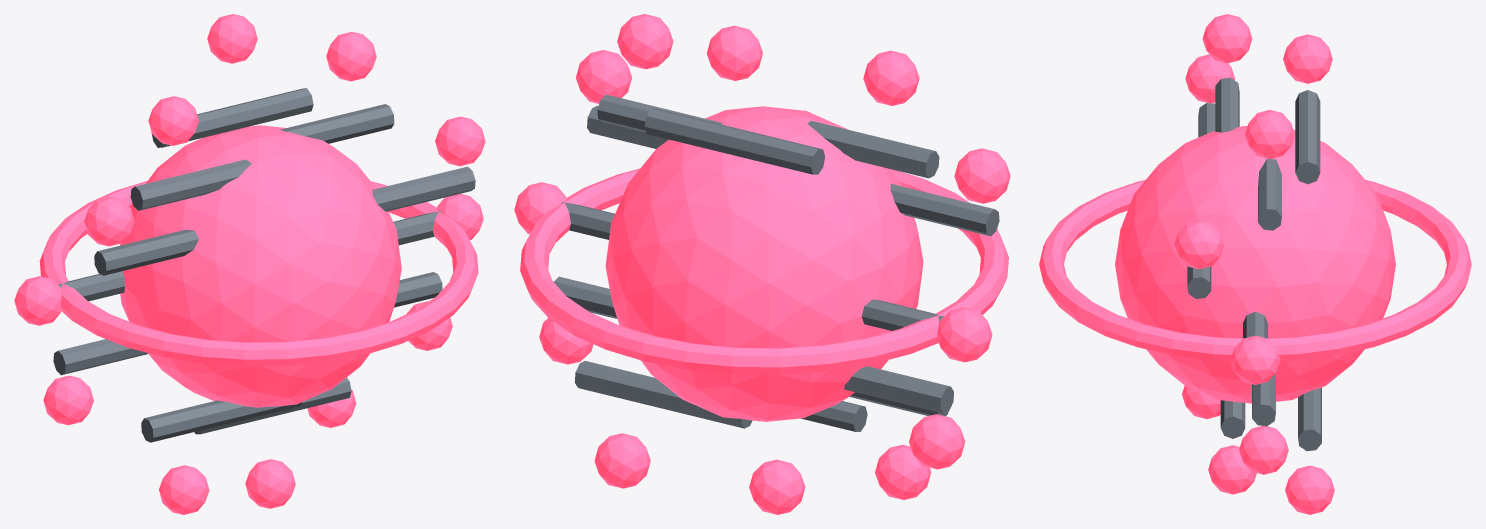
Rendered from virus_04.glb.
The picture shows the model from 3 angles, left to right: view 1: azimuth 30°, elevation 25°; view 2: azimuth 150°, elevation 25°; view 3: azimuth 270°, elevation 25°; orthographic projection. The views are drawn at different scales.
Parts seen in each view (by area): view 1: virus_core, world, corrupt_ring, tendril3, tendril8, tendril4, tendril5, tendril1, tendril2, tendril7, tendril6, tendril11 (+2 smaller); view 2: virus_core, world, corrupt_ring, tendril3, tendril10, tendril4, tendril5, tendril7, tendril2, tendril6, tendril11, tendril0 (+3 smaller); view 3: virus_core, world, corrupt_ring, tendril3, tendril2, tendril10, tendril4, tendril11, tendril9, tendril1, tendril0, tendril5.
Boxes of the visible parts, left/top/right/bottom form: virus_core: left=120, top=125, right=401, bottom=407; world: left=14, top=14, right=485, bottom=514; corrupt_ring: left=39, top=181, right=478, bottom=366; tendril3: left=151, top=88, right=313, bottom=147; tendril8: left=141, top=400, right=302, bottom=442; tendril4: left=130, top=159, right=251, bottom=210; tendril5: left=94, top=229, right=198, bottom=275; tendril1: left=372, top=166, right=475, bottom=211; tendril2: left=280, top=104, right=394, bottom=143; tendril7: left=53, top=339, right=147, bottom=375; tendril6: left=58, top=271, right=124, bottom=301; tendril11: left=394, top=272, right=442, bottom=307; virus_core: left=605, top=106, right=923, bottom=421; world: left=514, top=14, right=1010, bottom=514; corrupt_ring: left=520, top=168, right=1008, bottom=374; tendril3: left=644, top=108, right=824, bottom=174; tendril10: left=574, top=361, right=752, bottom=428; tendril4: left=807, top=120, right=939, bottom=178; tendril5: left=890, top=184, right=999, bottom=236; tendril7: left=844, top=366, right=953, bottom=413; tendril2: left=597, top=94, right=721, bottom=132; tendril6: left=861, top=299, right=943, bottom=330; tendril11: left=554, top=276, right=617, bottom=318; tendril0: left=561, top=202, right=614, bottom=239; virus_core: left=1115, top=126, right=1395, bottom=403; world: left=1174, top=14, right=1334, bottom=514; corrupt_ring: left=1039, top=180, right=1471, bottom=361; tendril3: left=1295, top=90, right=1320, bottom=184; tendril2: left=1258, top=158, right=1281, bottom=230; tendril10: left=1298, top=387, right=1321, bottom=451; tendril4: left=1215, top=77, right=1239, bottom=132; tendril11: left=1252, top=374, right=1275, bottom=426; tendril9: left=1220, top=400, right=1245, bottom=438; tendril1: left=1187, top=266, right=1211, bottom=298; tendril0: left=1243, top=311, right=1267, bottom=338; tendril5: left=1198, top=103, right=1215, bottom=137.
Bounding box in the file's own units: 2.22 × 2.22 × 1.91.
